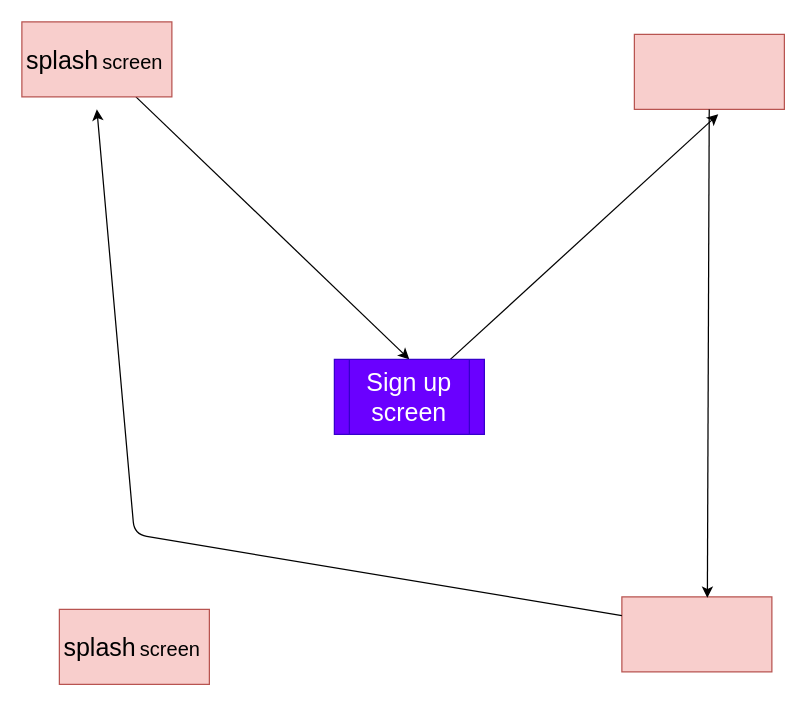
Some shapes in this 806 by 706 pixel diagram are drawn without their labels. The box of each missing label's shape, as (x1, y1, x2, y2) in pixels:
Home Screen: (621, 596, 772, 672)
Login Screen: (633, 33, 784, 109)
